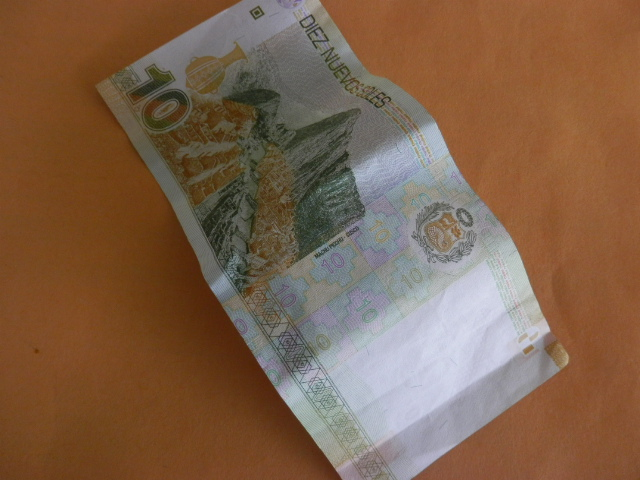B10: (95, 9, 583, 471)
